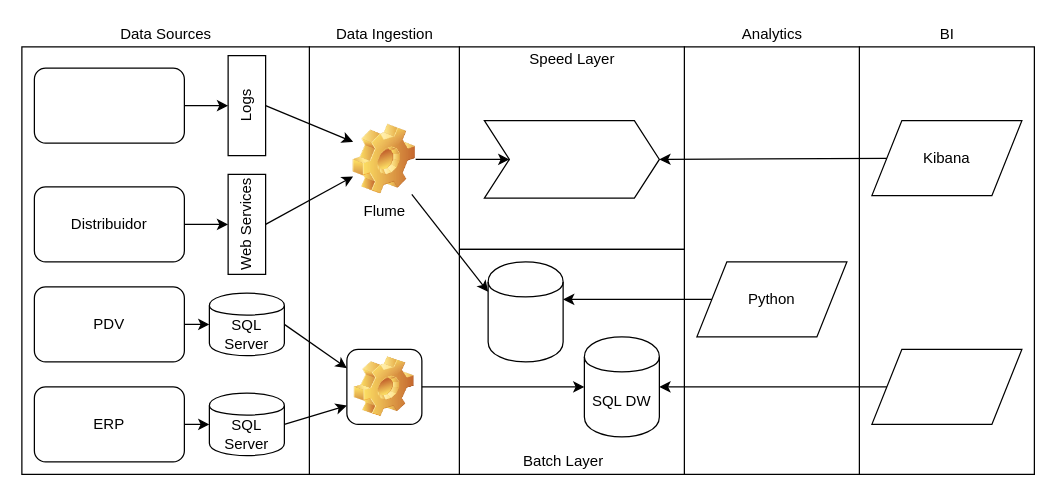
Some shapes in this 1056 by 496 pixel diagram are drawn without their labels. Each missing label, with the centre of its shape:
"Ecommerce" belongs at point 108,105.
"HDFS" belongs at point 525,311.
"Integration" belongs at point 384,386.
"Spark Streaming" belongs at point 571,158.
"Tableau" belongs at point 946,386.
